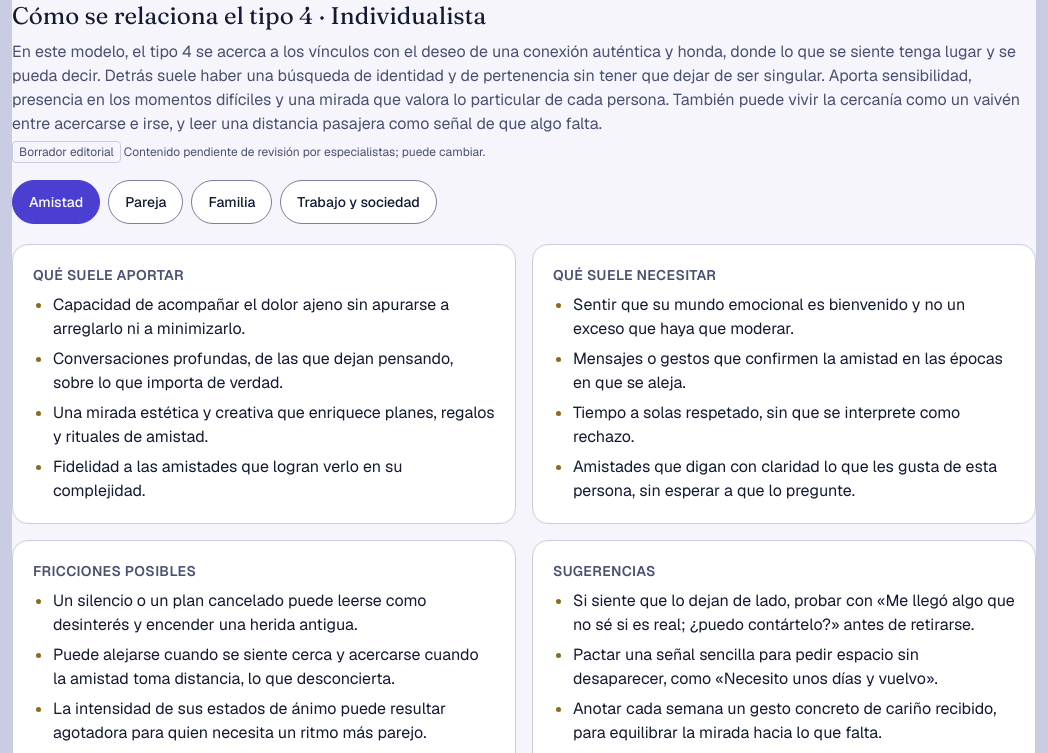
Test: RelationshipGuide › switches to Pareja and shows that context's lists only
Click the button "Pareja". click: coordinates (146, 202)
box: left=108, top=180, right=184, bottom=224
(page scrolled)
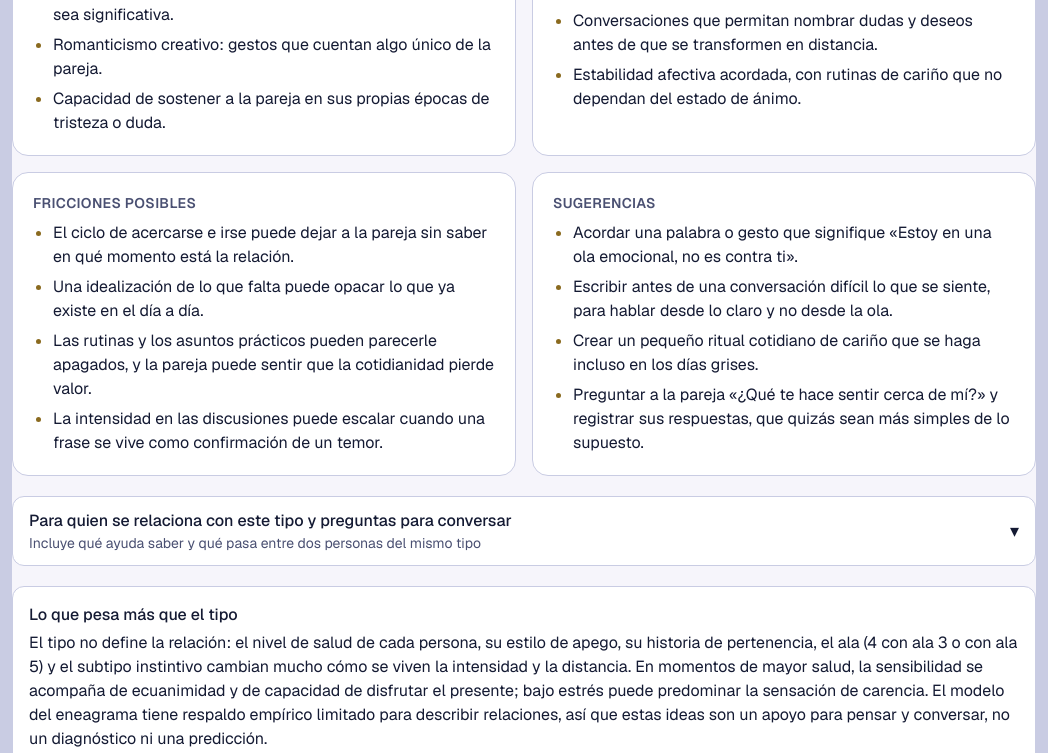
Check: the list item "Romanticismo creativo: gestos que cuentan algo único de la pareja." is shown, box left=53, top=33, right=495, bottom=81
Check: the list item "Capacidad de sostener a la pareja en sus propias épocas de tristeza o duda." is shown, box left=53, top=87, right=495, bottom=135
Check: the list item "Conversaciones que permitan nombrar dudas y deseos antes de que se transformen en distancia." is shown, box left=573, top=10, right=973, bottom=55
